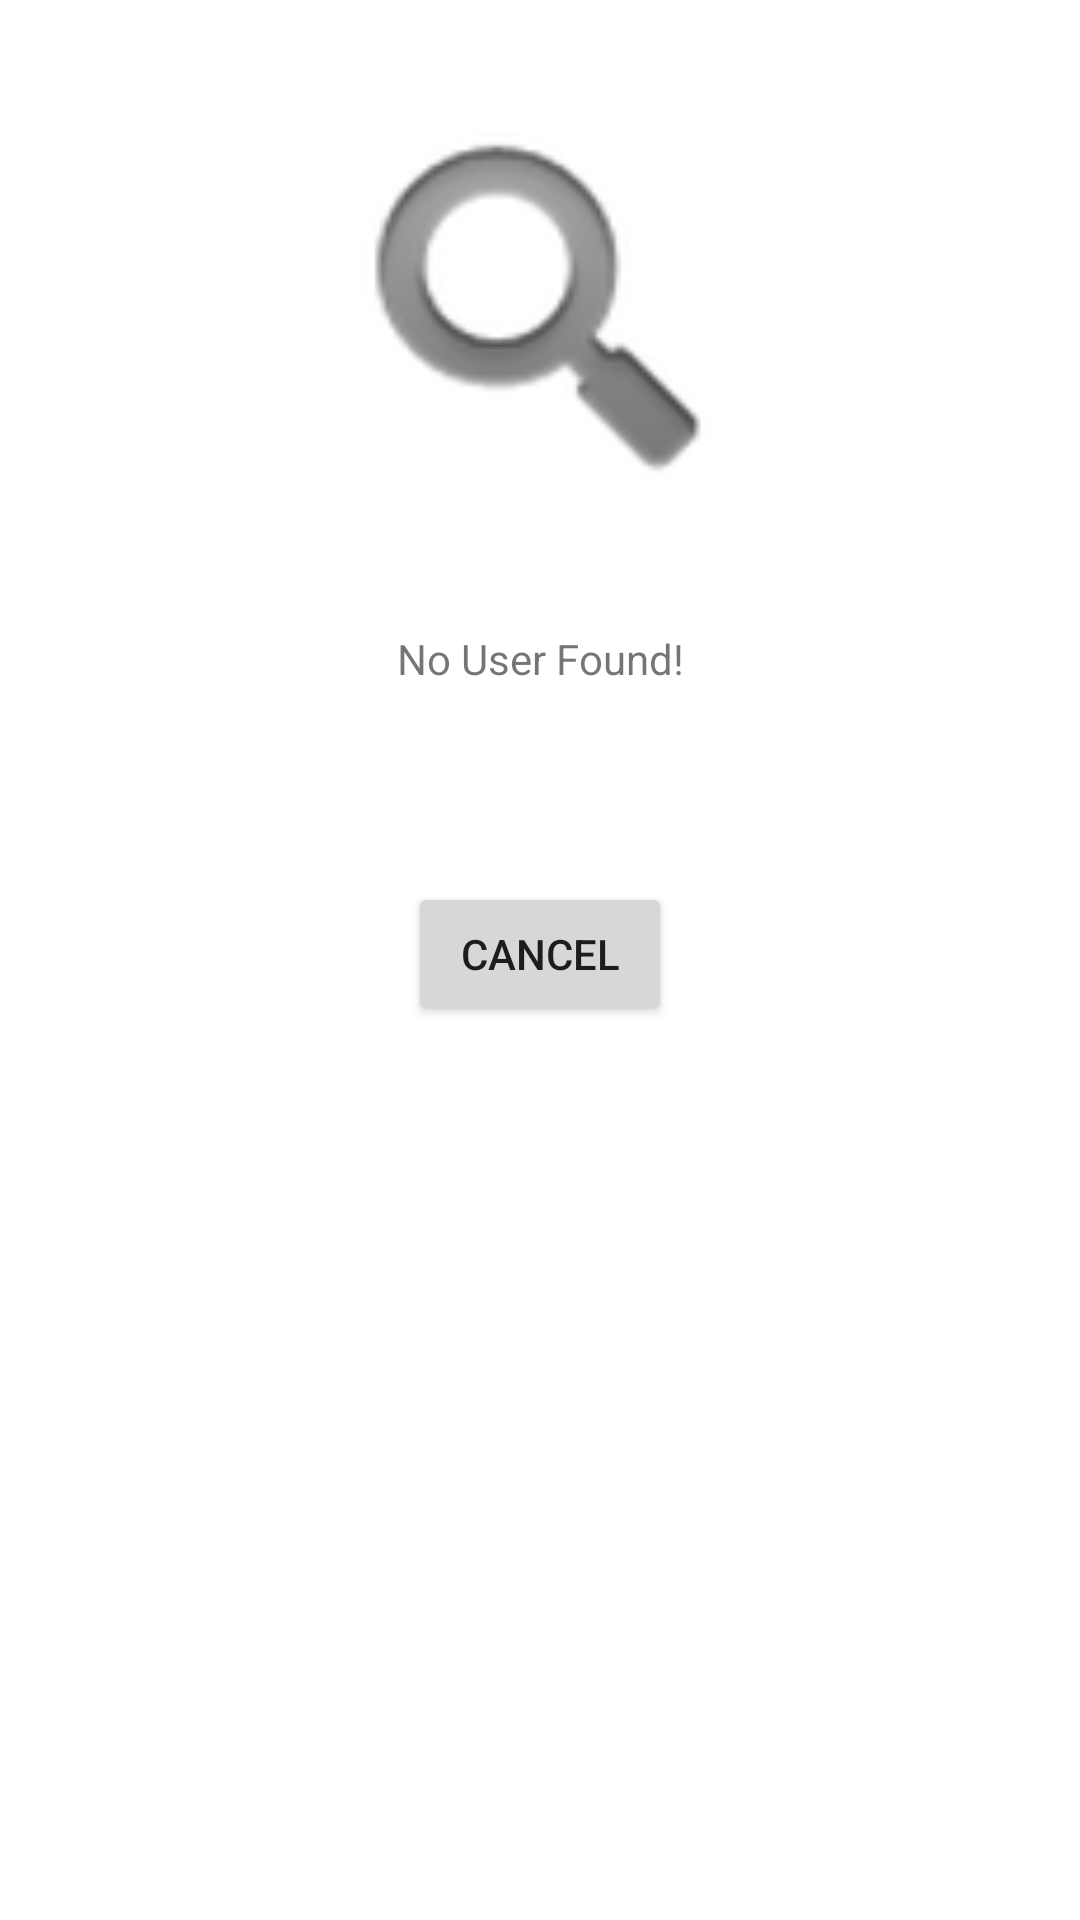

Locate icon controls on the screen. Image size 1080w x 1920h, boxes as detection(x1, y1, x2, y2).
search category: detection(375, 144, 700, 470)
